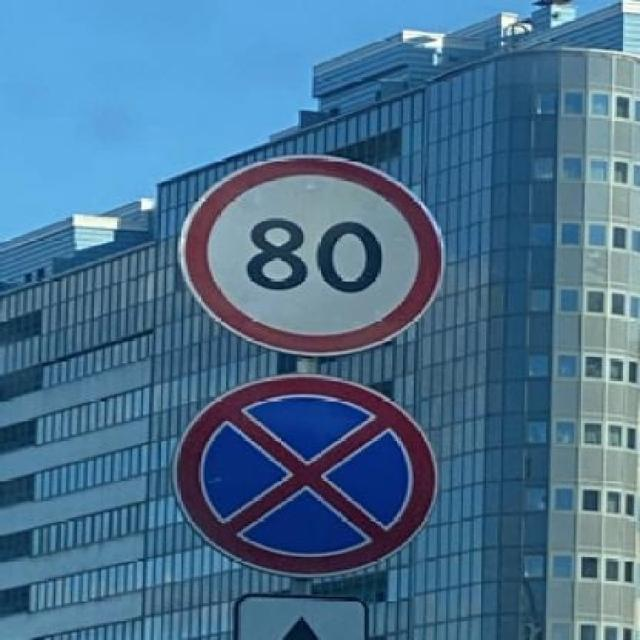forb_speed_over_80: (182, 158, 446, 358)
